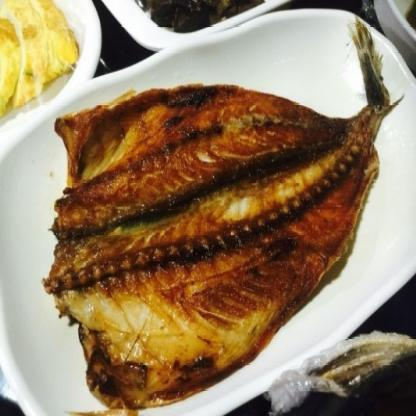Peixe: (41, 68, 404, 409)
